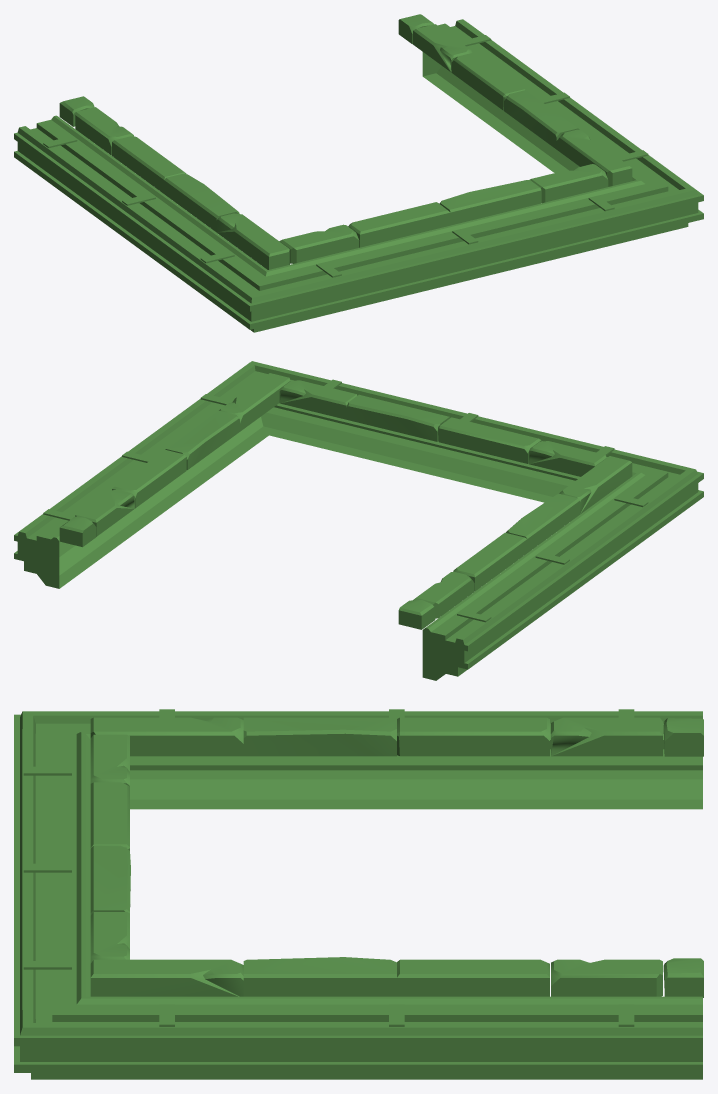
Rendered from parapet top 2corner.FBX.
The picture shows the model from 3 angles, top to bottom: view 1: azimuth 30°, elevation 25°; view 2: azimuth 150°, elevation 25°; view 3: azimuth 270°, elevation 25°; orthographic projection. The views are drawn at different scales.
Visible parts, largest first — view 1: Object1080; view 2: Object1080; view 3: Object1080.
Boxes of the visible parts, x1,y1,x2,y2 form: Object1080: (14,14,703,332); Object1080: (14,361,703,680); Object1080: (14,709,703,1079).
Bounding box in the file's own units: 5 × 0.6875 × 4.51.
